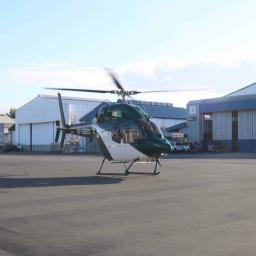helicopter: (50, 72, 170, 180)
